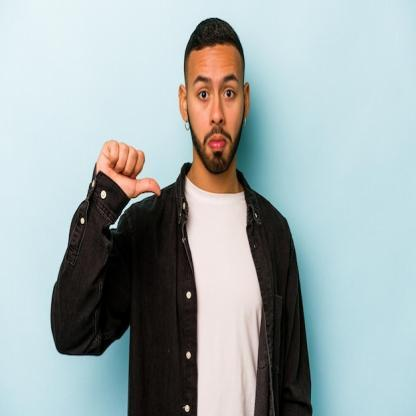thumb_down: (90, 132, 166, 206)
